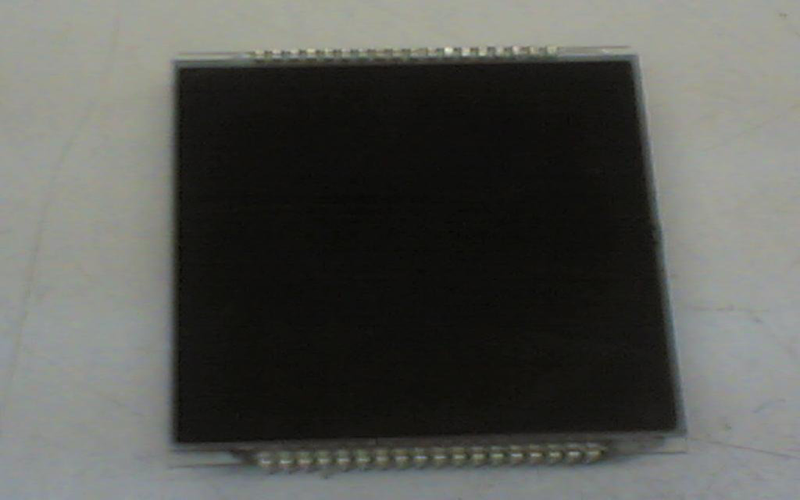LCD: (163, 37, 692, 464)
